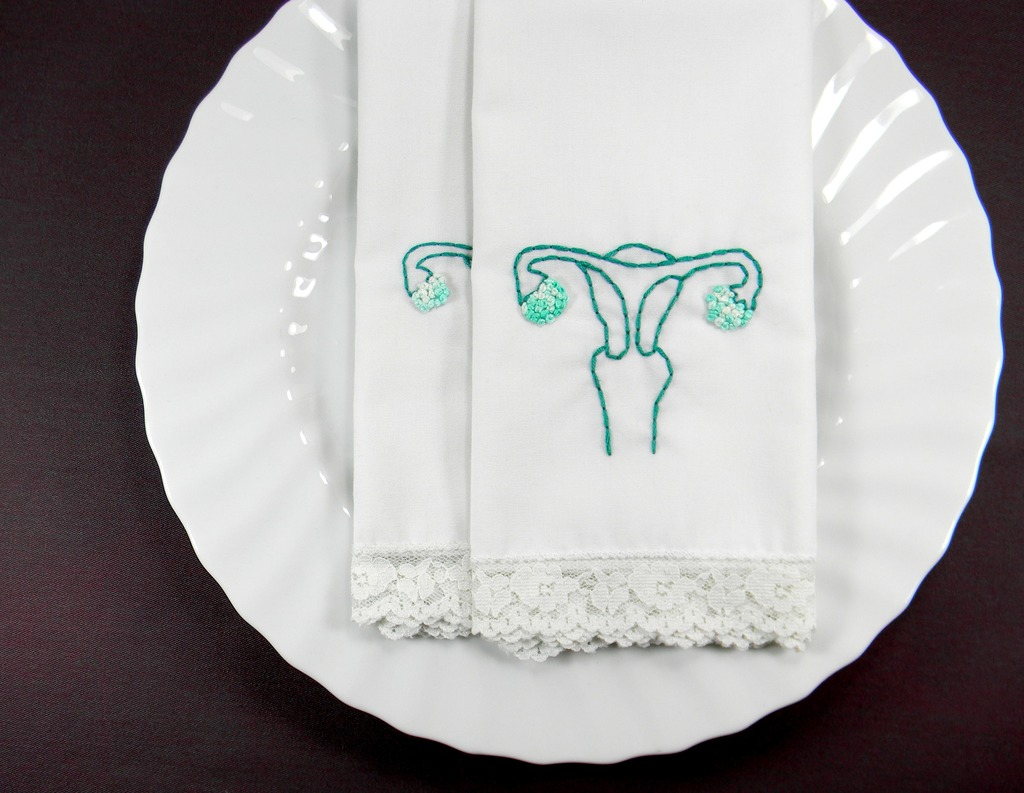plate: (136, 41, 1023, 727)
